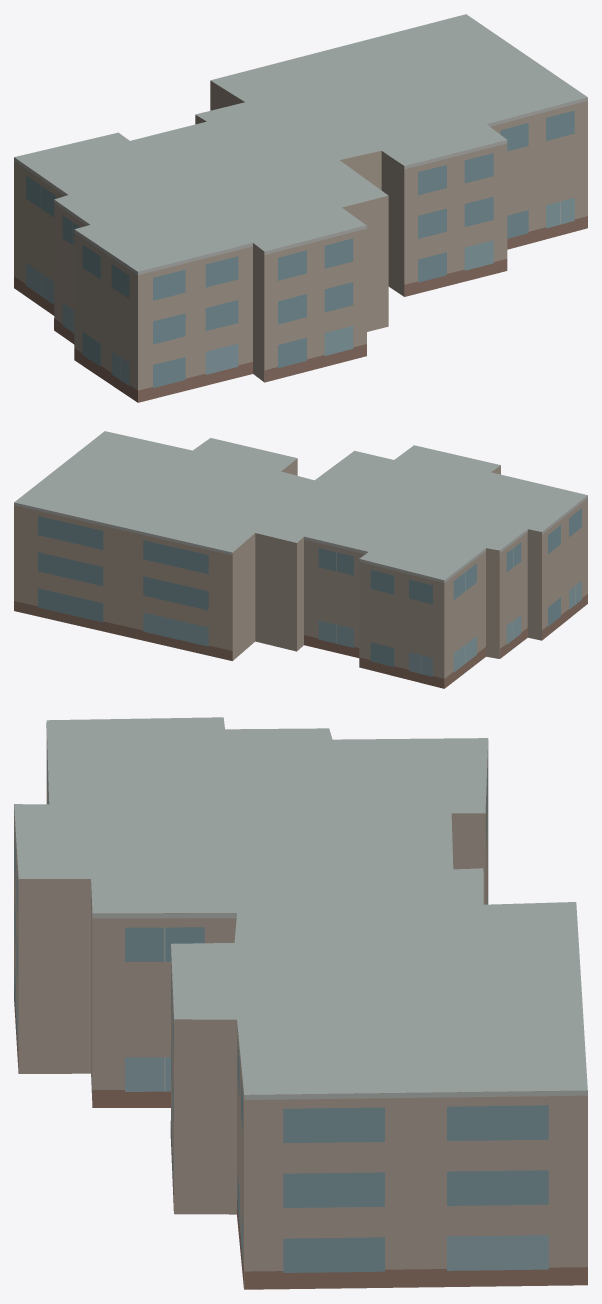
Rendered from survey-upis-32468904.glb.
3 renders of one model, top to bottom at view 1: azimuth 30°, elevation 25°; view 2: azimuth 150°, elevation 25°; view 3: azimuth 270°, elevation 25°, orthographic. The views are drawn at different scales.
Parts seen in each view (by area): view 1: survey-upis-32468904.tmp; view 2: survey-upis-32468904.tmp; view 3: survey-upis-32468904.tmp.
Boxes of the visible parts, x1=… form: survey-upis-32468904.tmp: x1=14, y1=14, x2=587, y2=402; survey-upis-32468904.tmp: x1=14, y1=431, x2=587, y2=688; survey-upis-32468904.tmp: x1=14, y1=717, x2=587, y2=1289.
Bounding box in the file's own units: 38.05 × 9.15 × 24.44.
